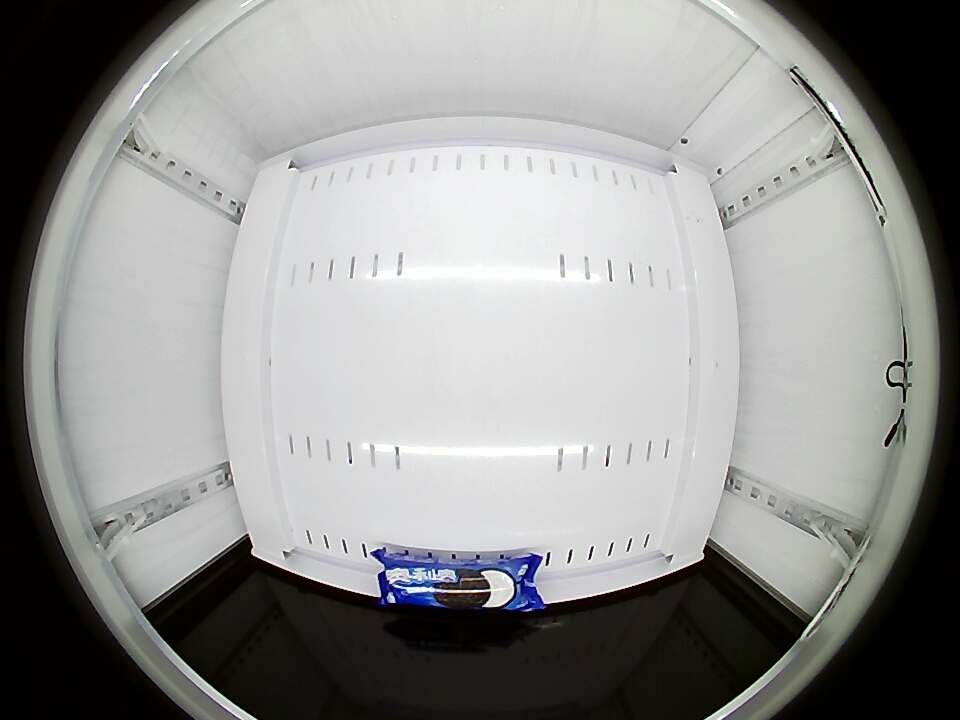aoliao: (376, 555, 541, 612)
